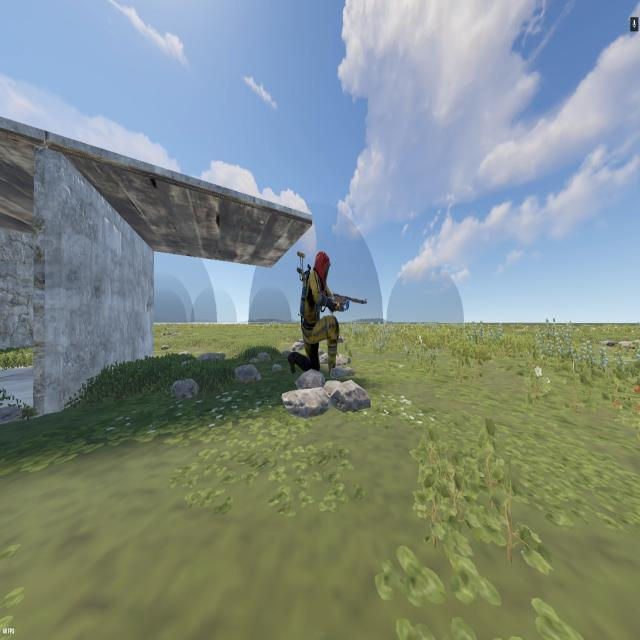Player: (290, 244, 342, 373)
